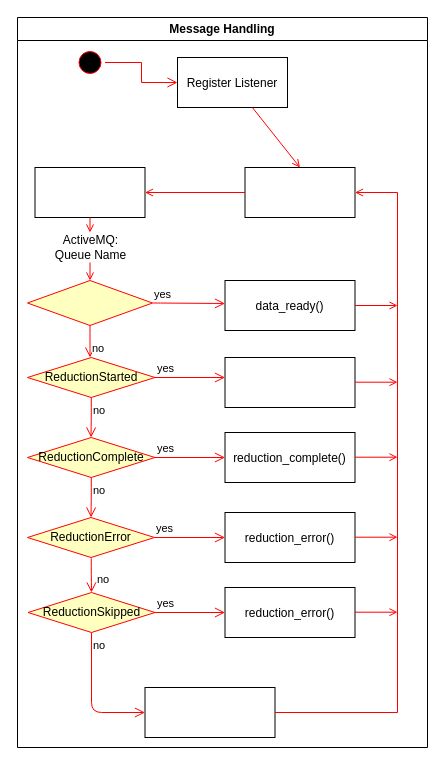
This 445x765 diagram has some shape labels left out. The shapes that lost their labels are listed below. From the top down, each one's box as (x1, y1, x2, y2) in pixels, then its label:
(34, 166, 145, 218): Message Received
(244, 166, 355, 218): Idle
(26, 280, 152, 326): DataReady
(224, 356, 355, 408): reduction_started()
(144, 686, 275, 738): Log Warning: Unknown destination
